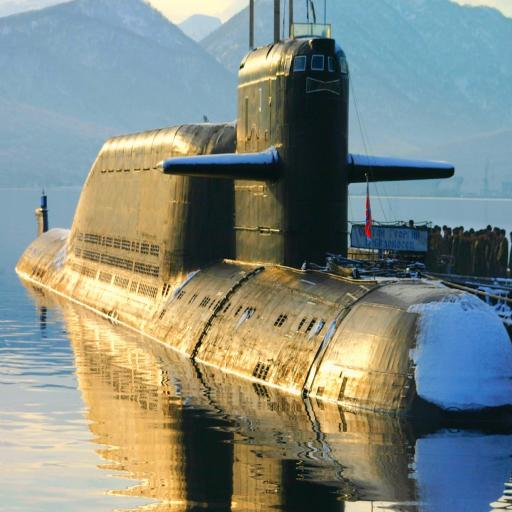submarine: (12, 1, 512, 430)
